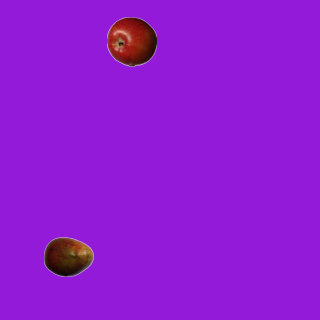Apple Braeburn: (106, 16, 156, 66)
Mango Red: (43, 231, 93, 281)
